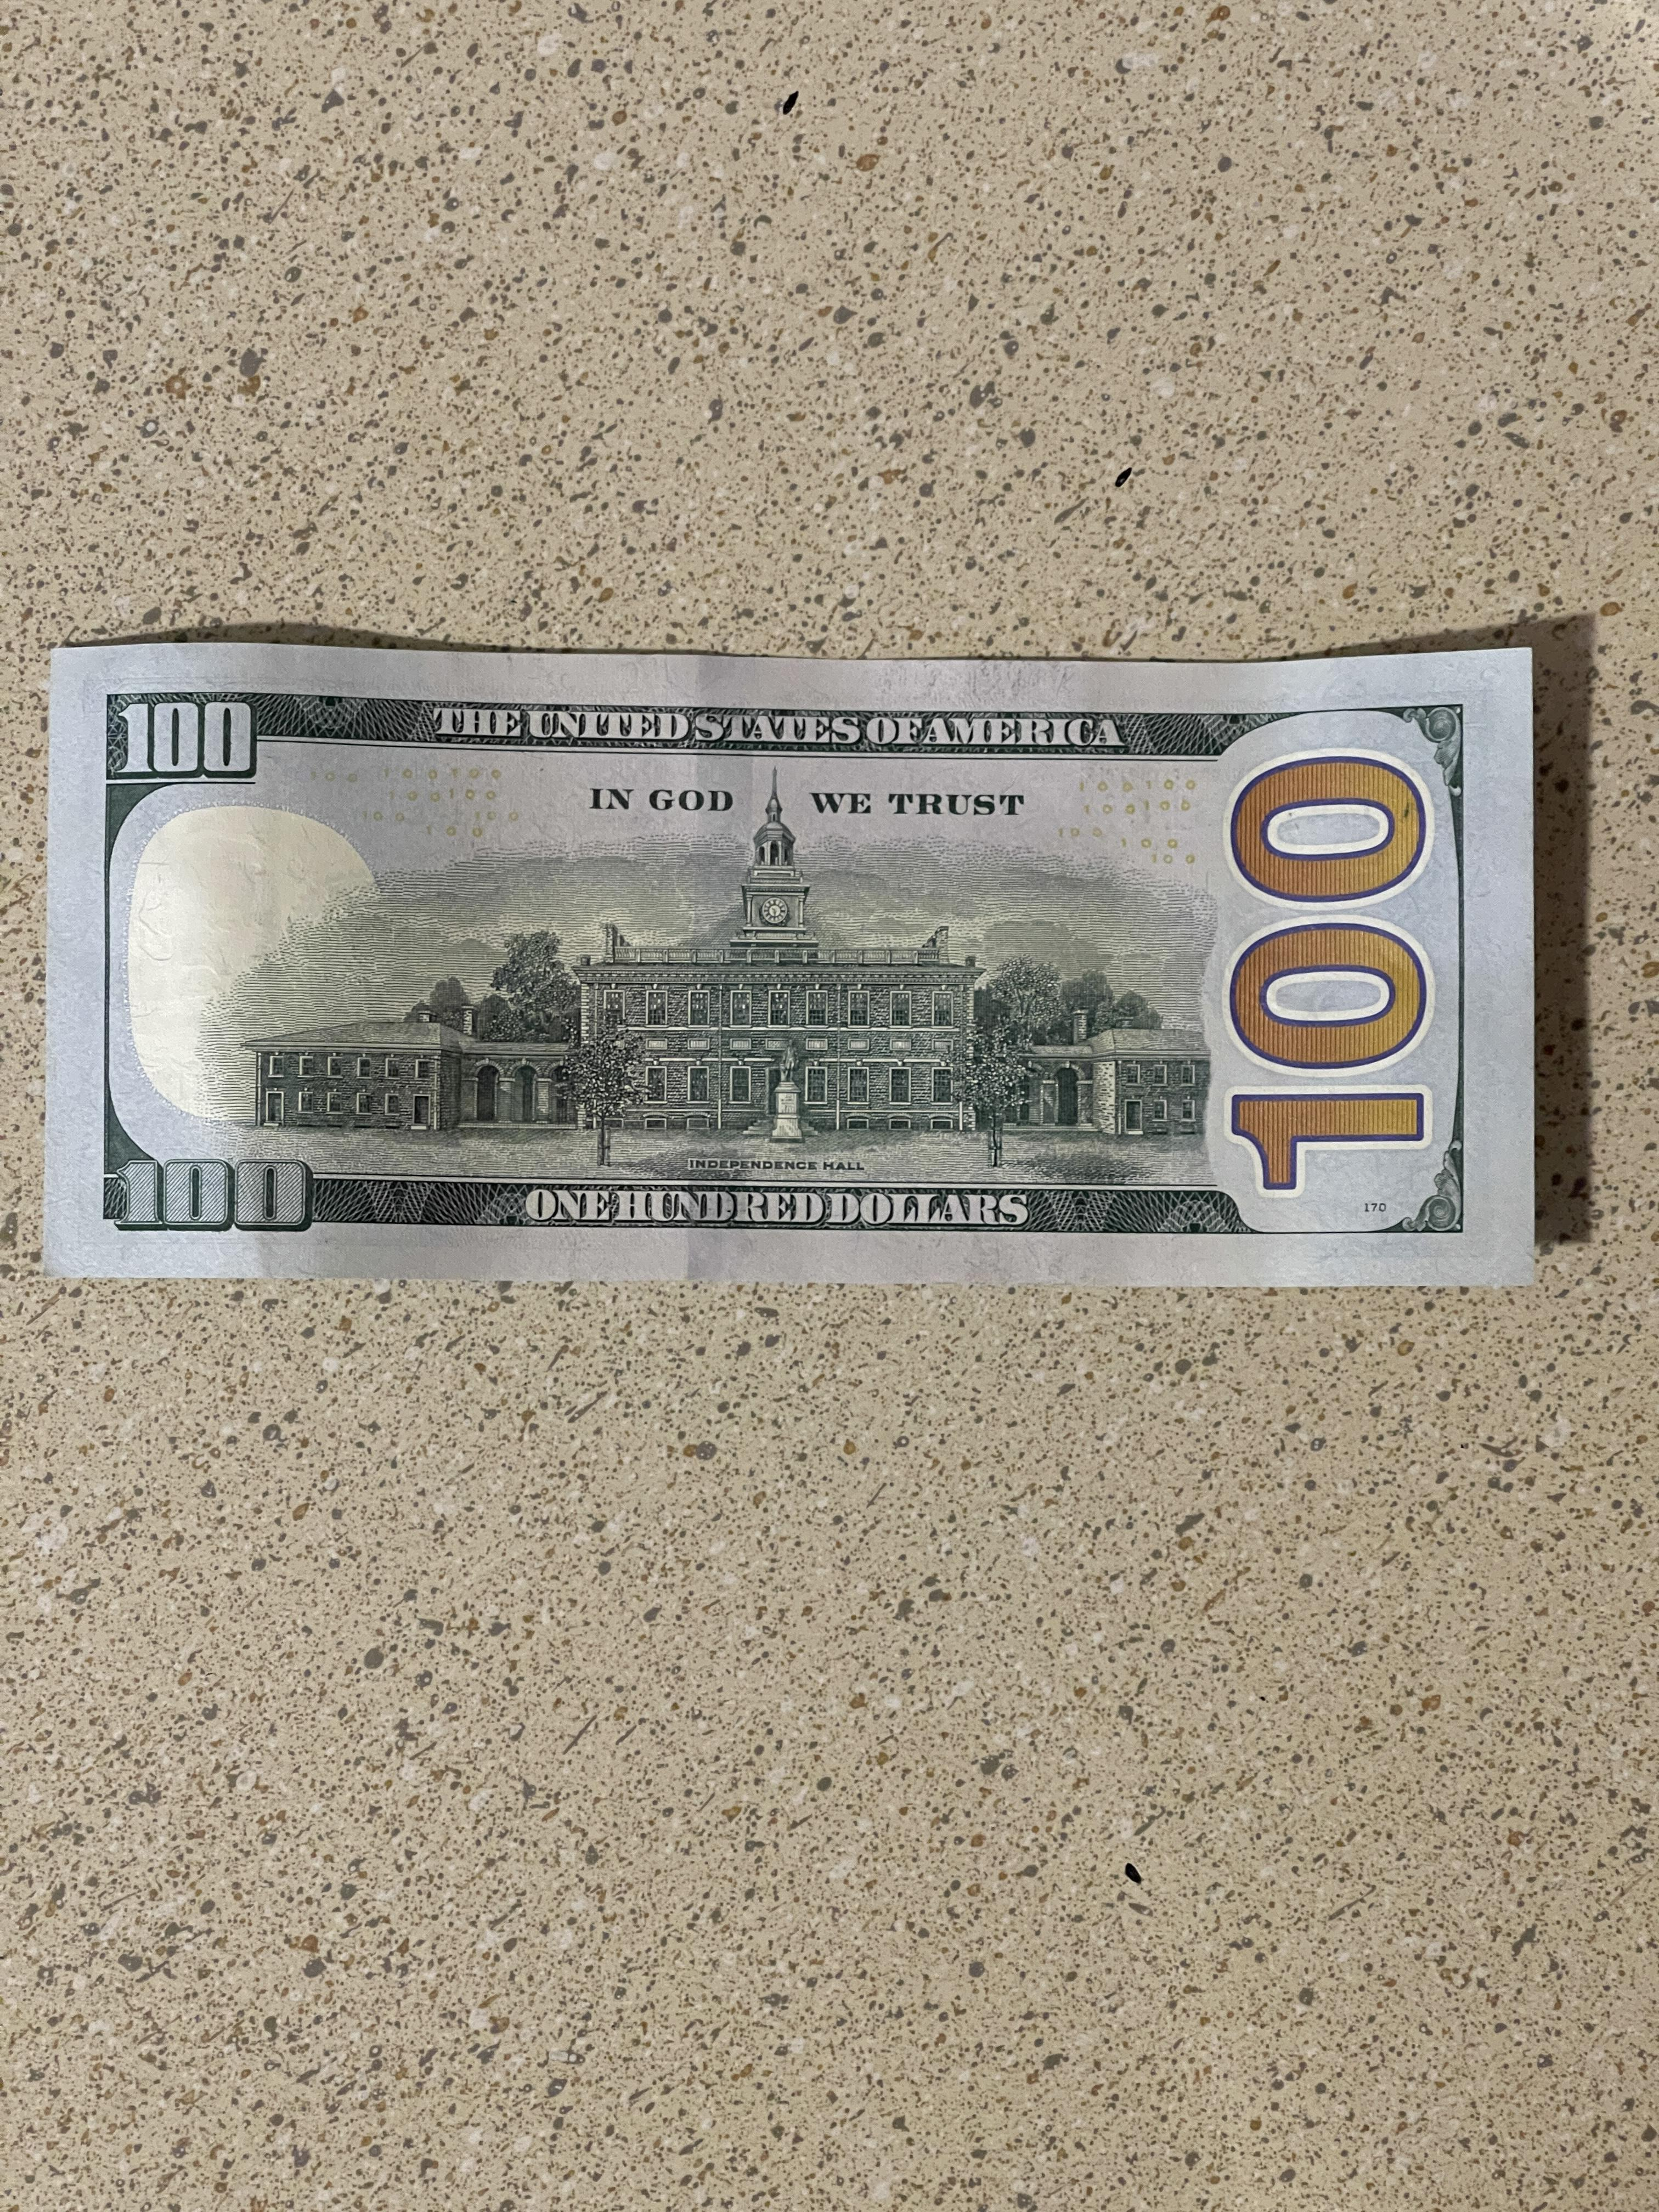HundredBill: (40, 634, 1549, 1292)
